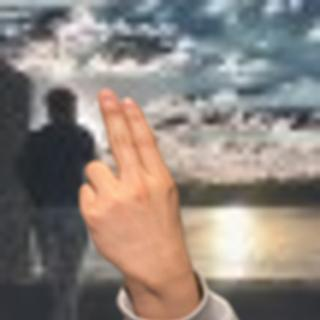DHAVE: (71, 85, 193, 291)
